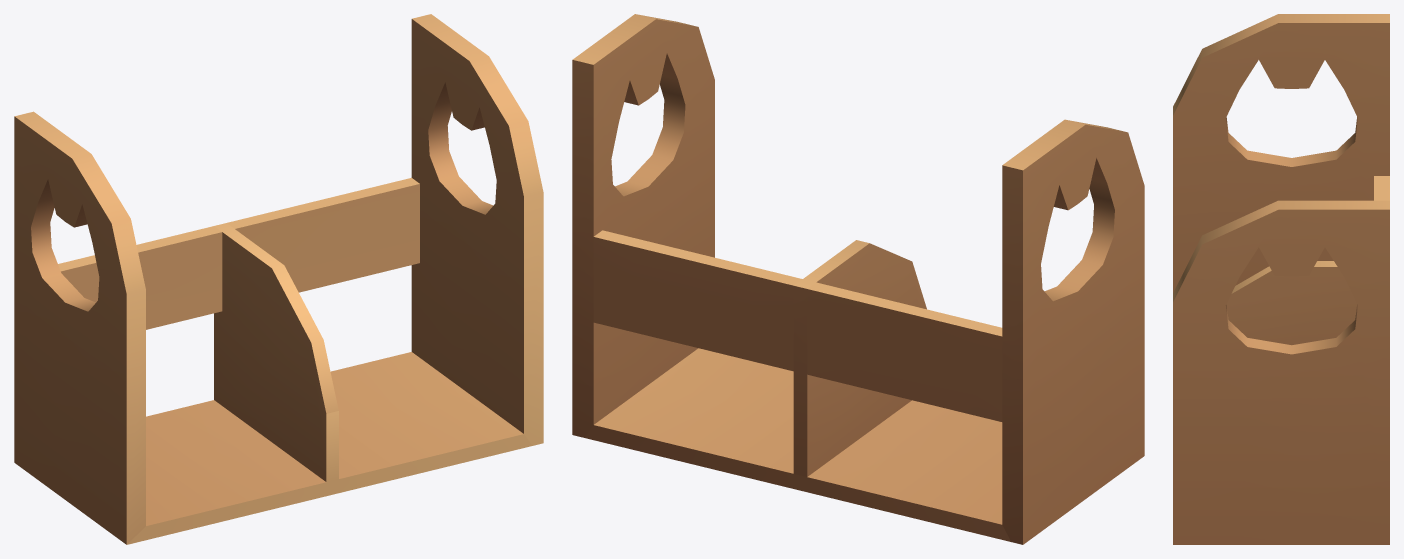
File: CR_Bookshelf_001.FBX
3 renders of one model, left to right at view 1: azimuth 30°, elevation 25°; view 2: azimuth 150°, elevation 25°; view 3: azimuth 270°, elevation 25°, orthographic. The views are drawn at different scales.
Visible parts, largest first — view 1: CR_Bookshelf_001; view 2: CR_Bookshelf_001; view 3: CR_Bookshelf_001.
Boxes of the visible parts, x1,y1,x2,y2 form: CR_Bookshelf_001: (14,14,543,544); CR_Bookshelf_001: (572,14,1144,544); CR_Bookshelf_001: (1173,14,1389,544).
Bounding box in the file's own units: 39.97 × 31.81 × 18.66.
Materials: 1 (1 with a texture image).
